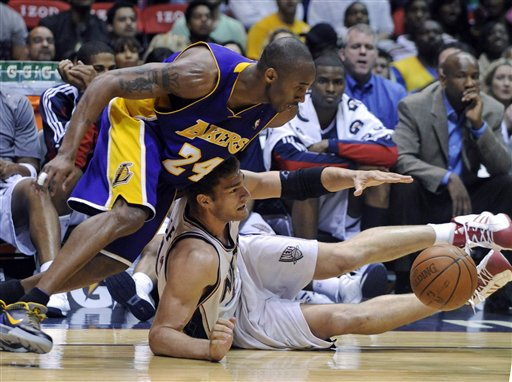10+: (1, 1, 511, 354)
down: (138, 152, 511, 361)
